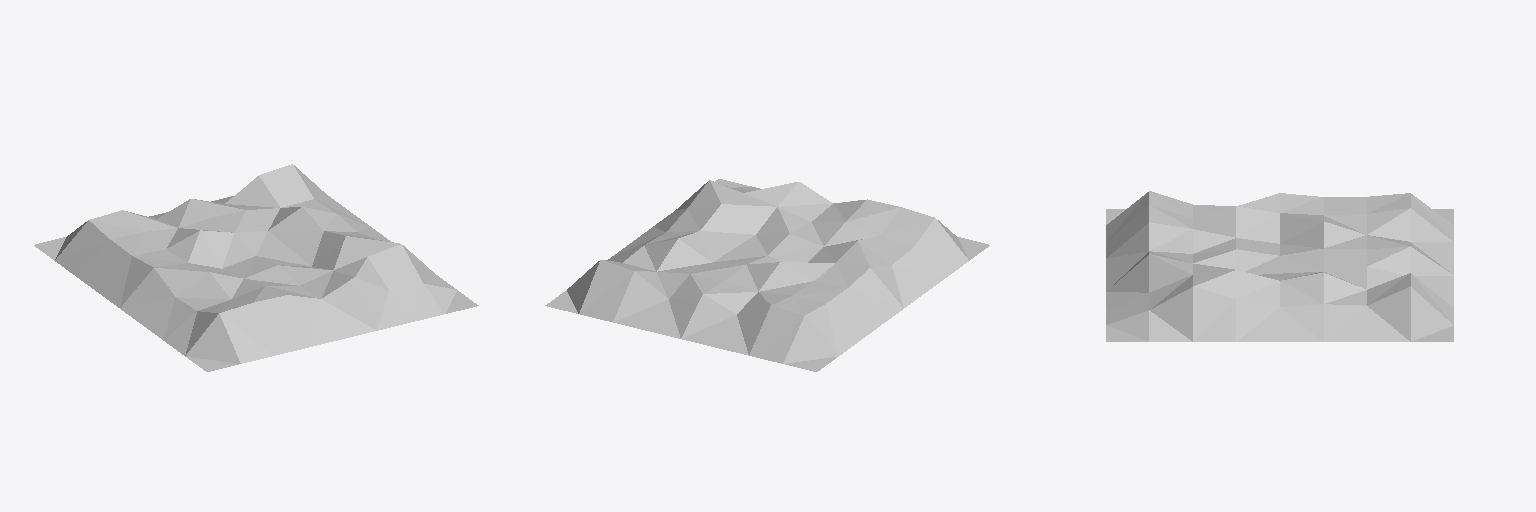
The model's file is lava2.obj.
3 views of the same model, side by side, from view 1: azimuth 30°, elevation 25°; view 2: azimuth 150°, elevation 25°; view 3: azimuth 270°, elevation 25° (orthographic).
Visible parts, largest first — view 1: pPlane1; view 2: pPlane1; view 3: pPlane1.
Boxes of the visible parts, x1=… form: pPlane1: x1=34, y1=164, x2=478, y2=371; pPlane1: x1=545, y1=179, x2=989, y2=371; pPlane1: x1=1106, y1=191, x2=1453, y2=341.
Size of the model in its own units: 25.52 by 3.49 by 28.26.